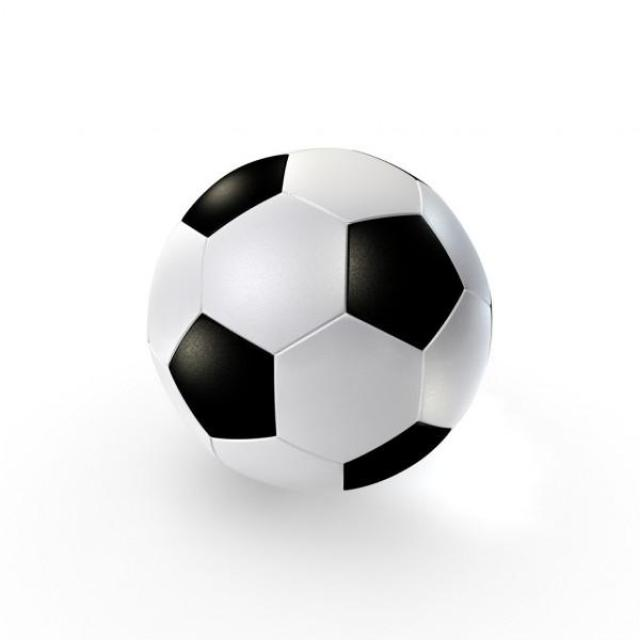Soccer Ball: (145, 143, 497, 501)
